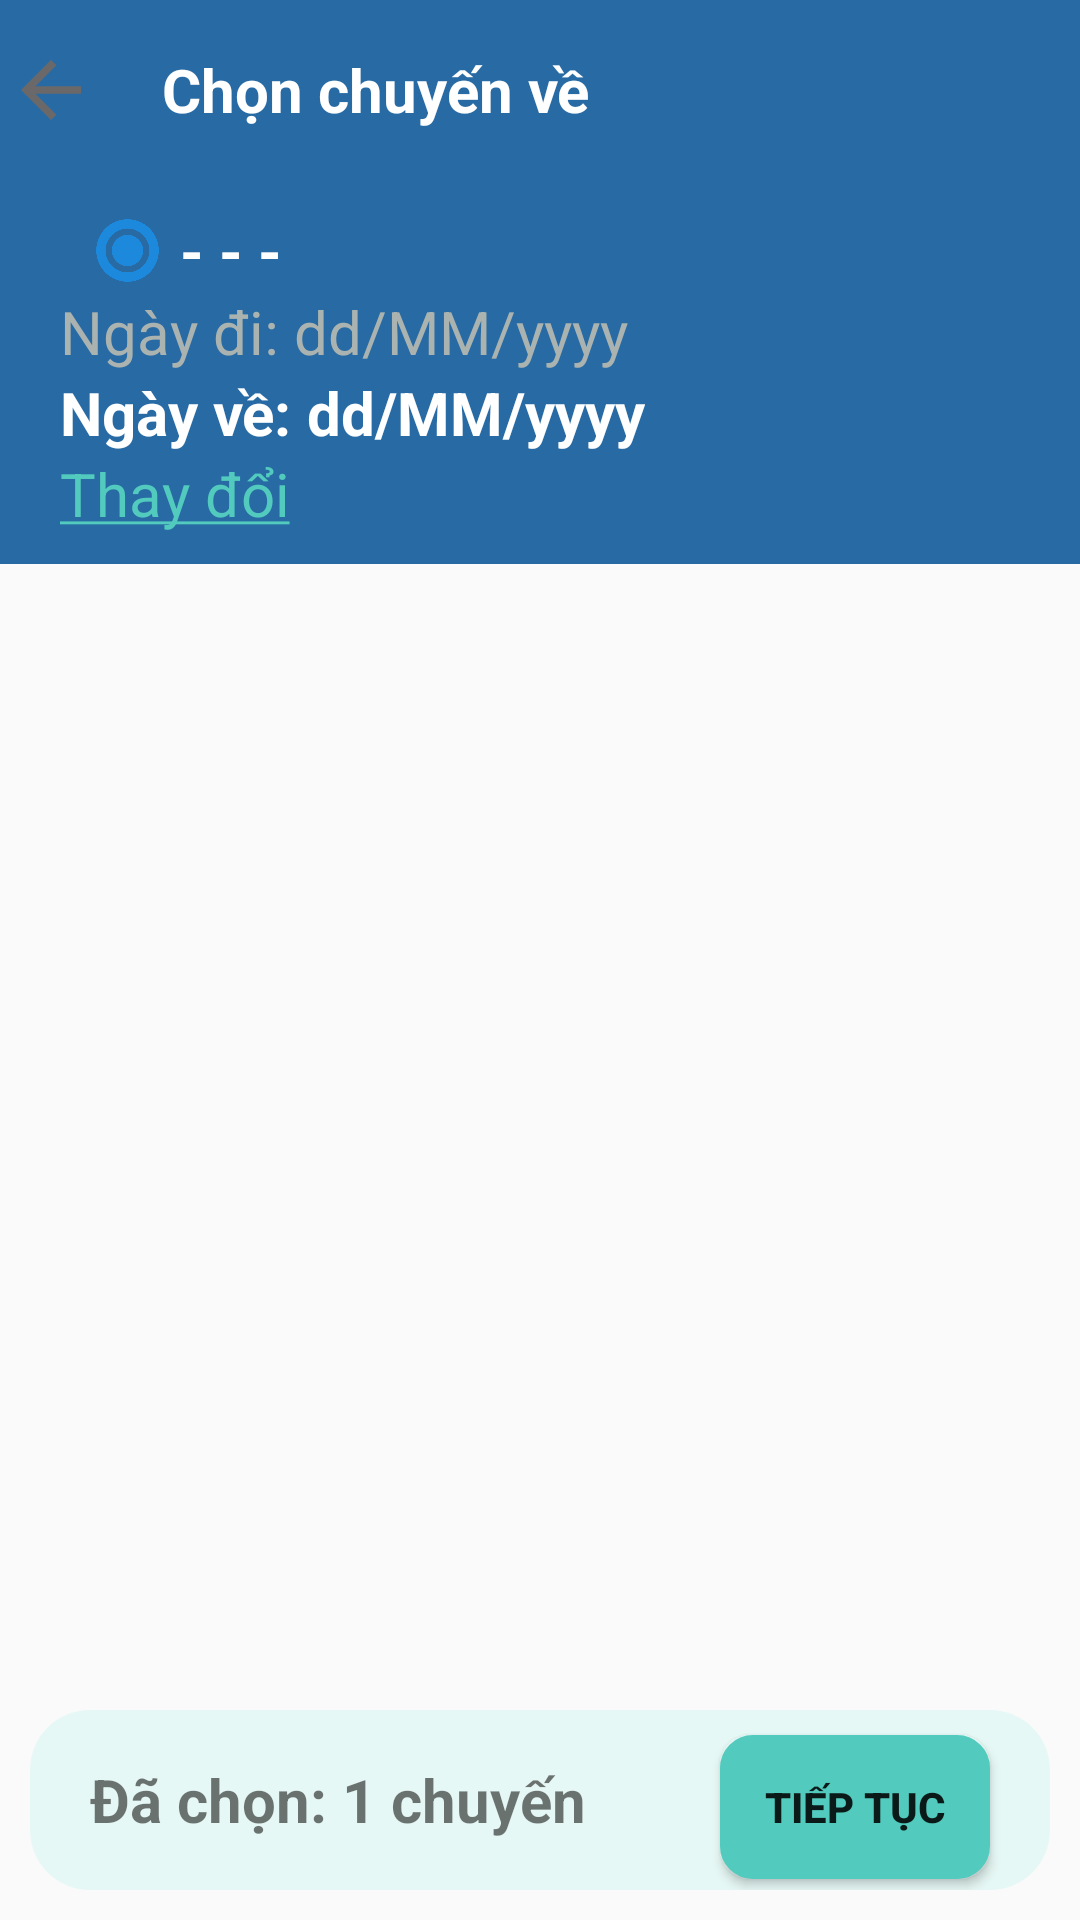

Screen size 1080px x 1920px. Icon name, then its box in pixels as (x1, y1, x2, y2):
back: (21, 60, 81, 120)
